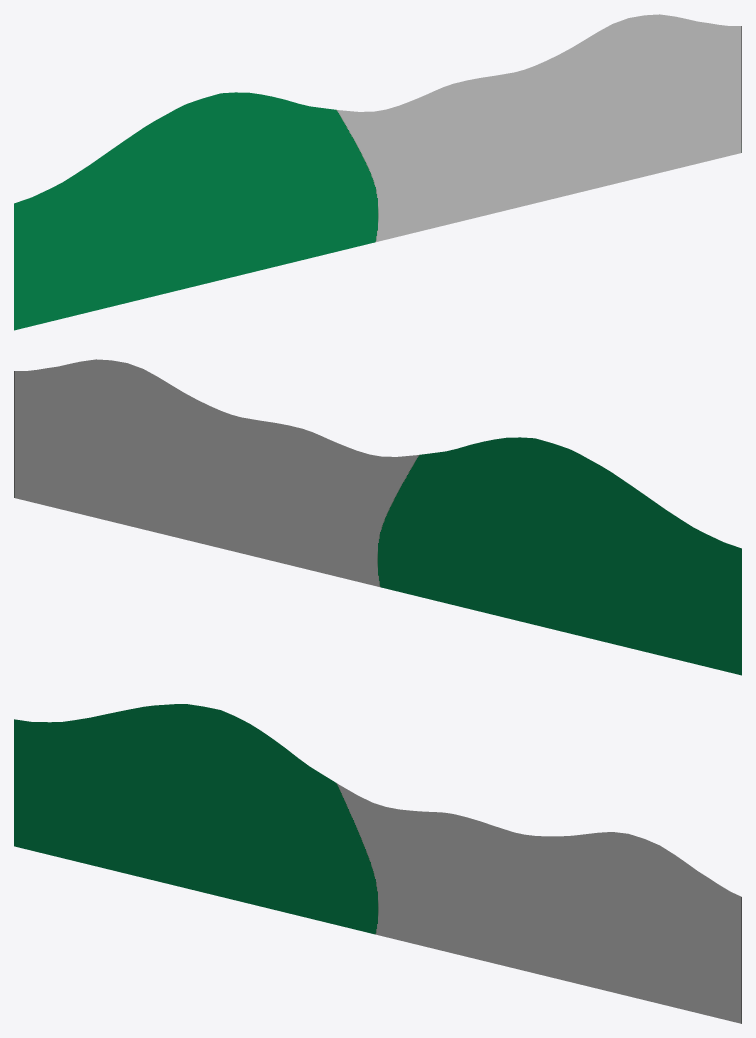
File: back2.obj
The picture shows the model from 3 angles, top to bottom: view 1: azimuth 30°, elevation 25°; view 2: azimuth 150°, elevation 25°; view 3: azimuth 330°, elevation 25°; orthographic projection.
Parts seen in each view (by area): view 1: 平面; view 2: 平面; view 3: 平面.
Boxes of the visible parts, x1,y1,x2,y2 form: 平面: (14,14,741,330); 平面: (14,359,741,675); 平面: (14,704,741,1023).
Bounding box in the file's own units: 5.42 × 1.33 × 0.
Materials: 1 (1 with a texture image).
